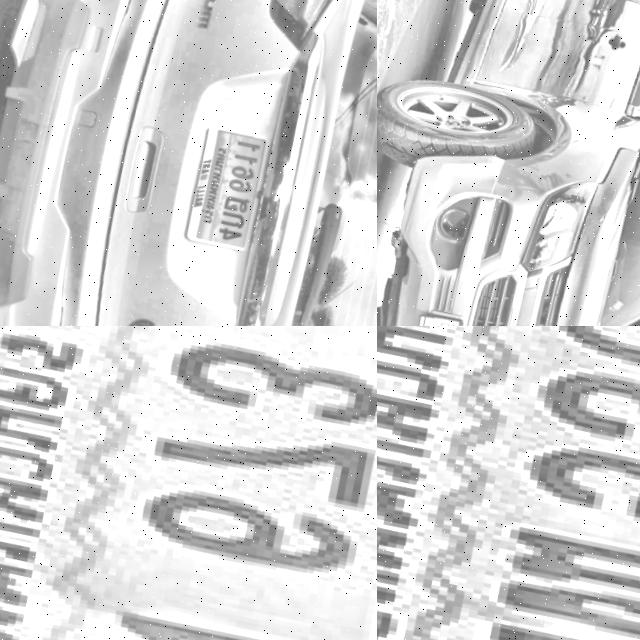license-plate: (0, 326, 377, 640), (377, 326, 640, 640), (176, 124, 274, 257), (402, 309, 463, 326)
